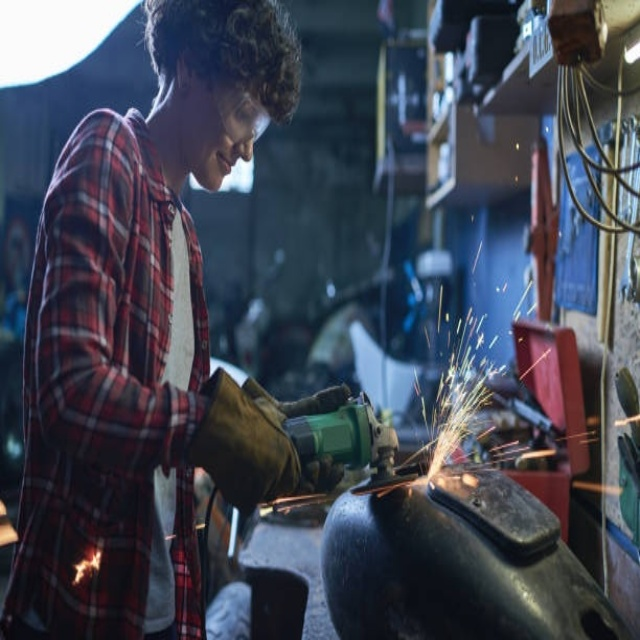Gafas: (207, 64, 271, 149)
Guantes: (188, 368, 304, 516)
Sin_mascara: (198, 143, 241, 188)
